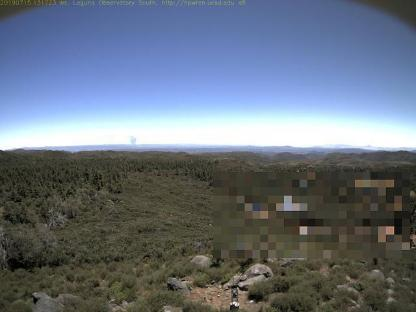smoke: (127, 134, 138, 148)
